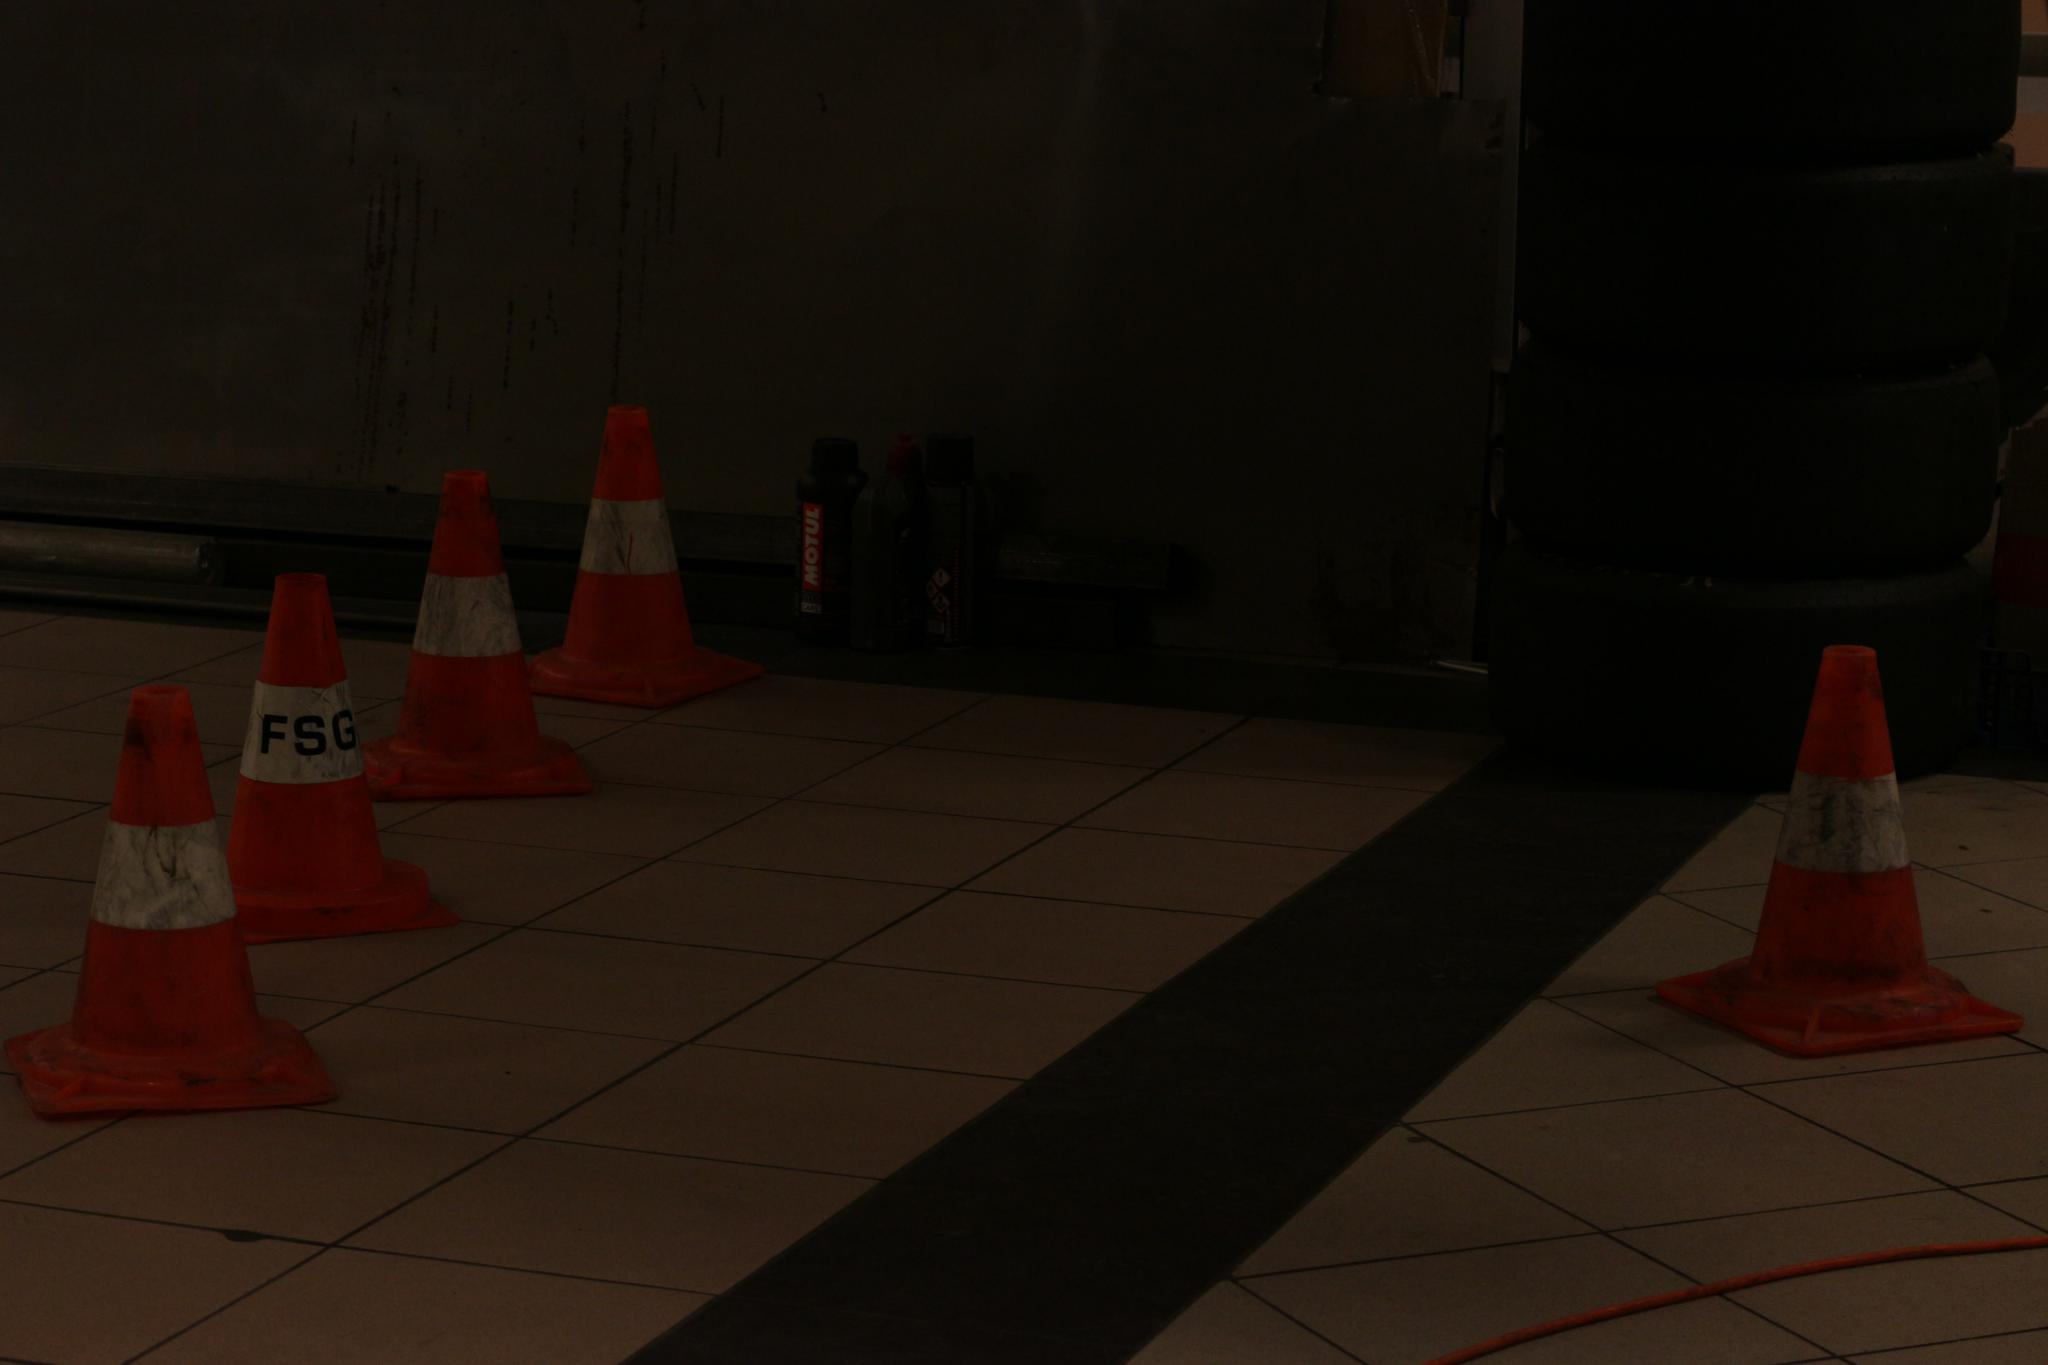Orange_Cone: (1660, 615, 2004, 1053), (3, 693, 349, 1127), (203, 564, 454, 943), (355, 439, 594, 800), (525, 402, 745, 707)
